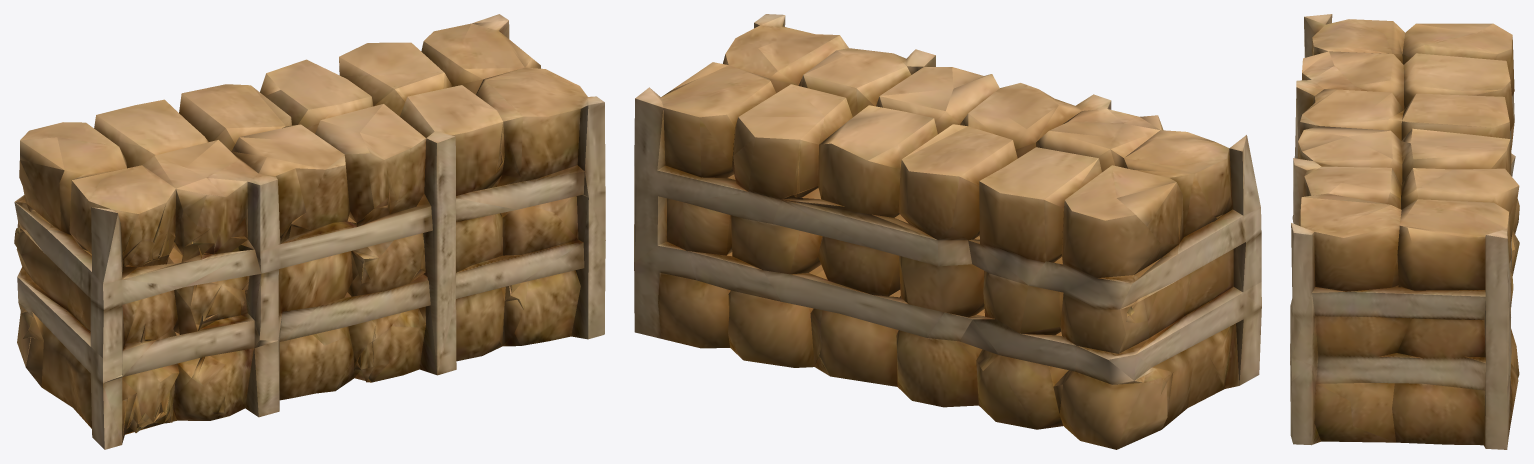
Rendered from m2PalisadeWall.glb.
The picture shows the model from 3 angles, left to right: view 1: azimuth 30°, elevation 25°; view 2: azimuth 150°, elevation 25°; view 3: azimuth 270°, elevation 25°; orthographic projection. The views are drawn at different scales.
Parts seen in each view (by area): view 1: model; view 2: model; view 3: model.
Boxes of the visible parts, <box> form: model: <box>14,14,605,449</box>; model: <box>634,14,1261,449</box>; model: <box>1290,14,1519,449</box>.
Size of the model in its own units: 1.88 by 0.8379 by 0.806.
Materials: 1 (1 with a texture image).
